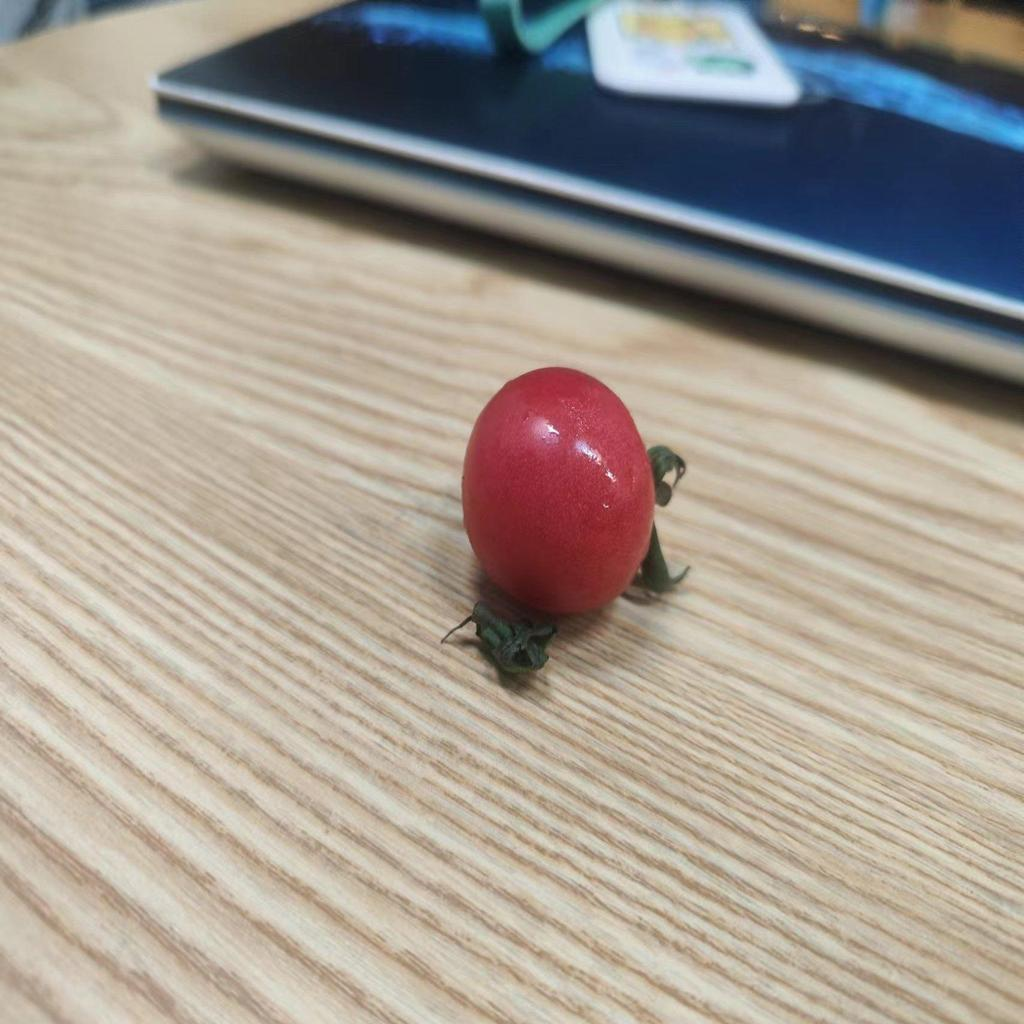tomato: (467, 371, 659, 615)
